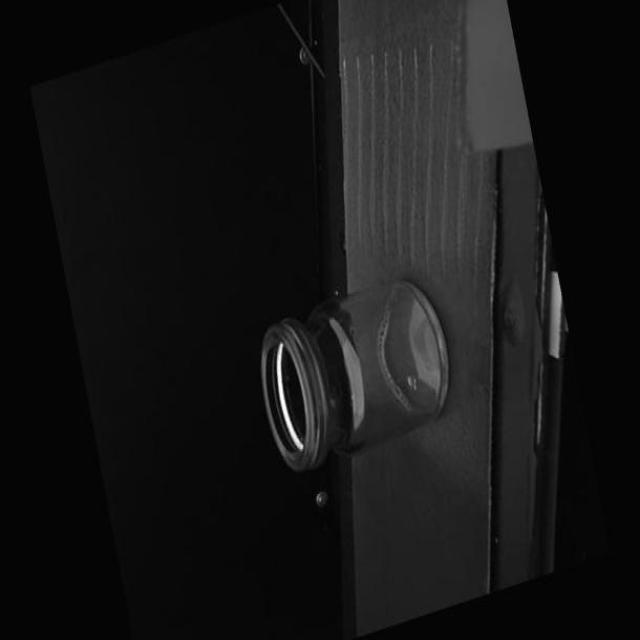defect: (349, 391, 358, 416)
glass: (250, 267, 461, 480)
